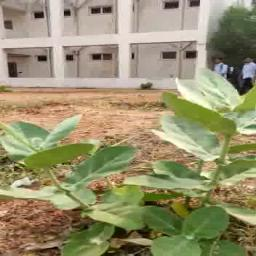Calotropis: (14, 118, 255, 242), (178, 50, 256, 124)
